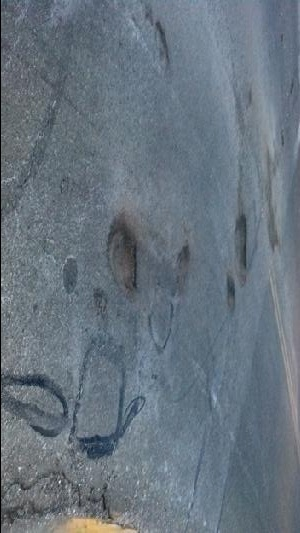pothole: (2, 469, 112, 528), (105, 218, 140, 299), (233, 212, 251, 285), (150, 21, 172, 73), (224, 273, 238, 312)
